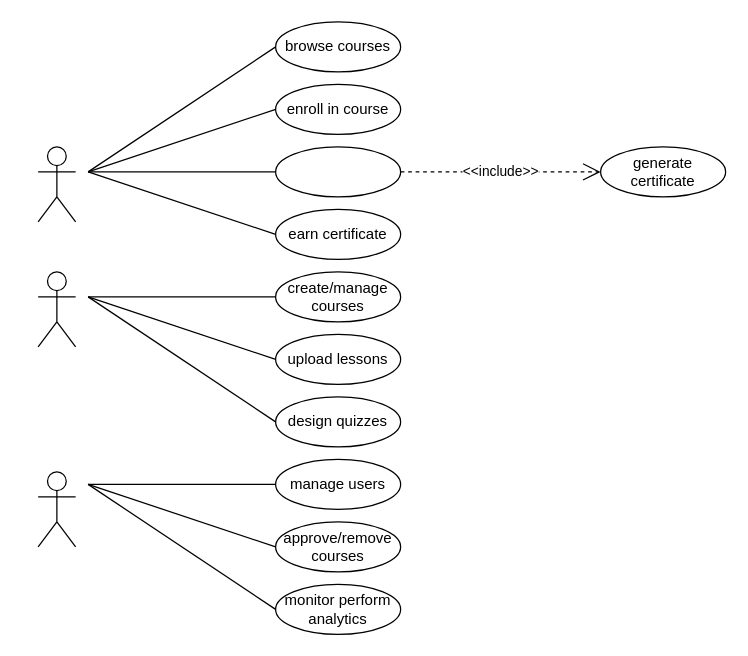
Image size: 748x656. Some labels were removed from this diagram. Here are the shapes that lost their labels. From the top down, the centre of each, then its label:
At (x=56, y=184): "Students".
At (x=337, y=171): "complete lessons and quizzes".
At (x=56, y=309): "Instructors".
At (x=56, y=509): "Admins".
